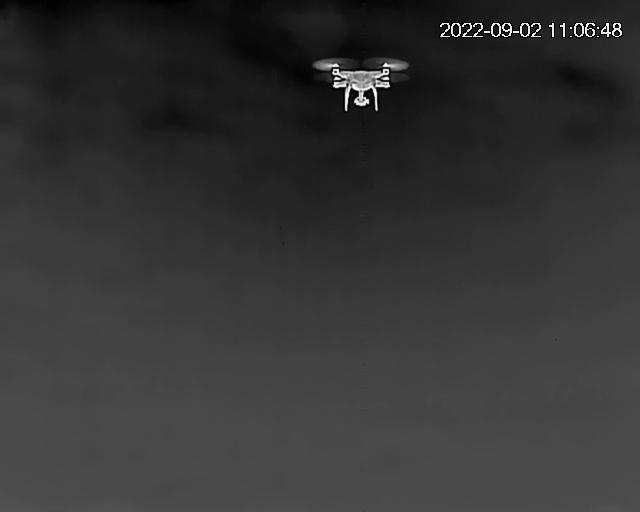DJI-Phantom: (318, 60, 407, 110)
